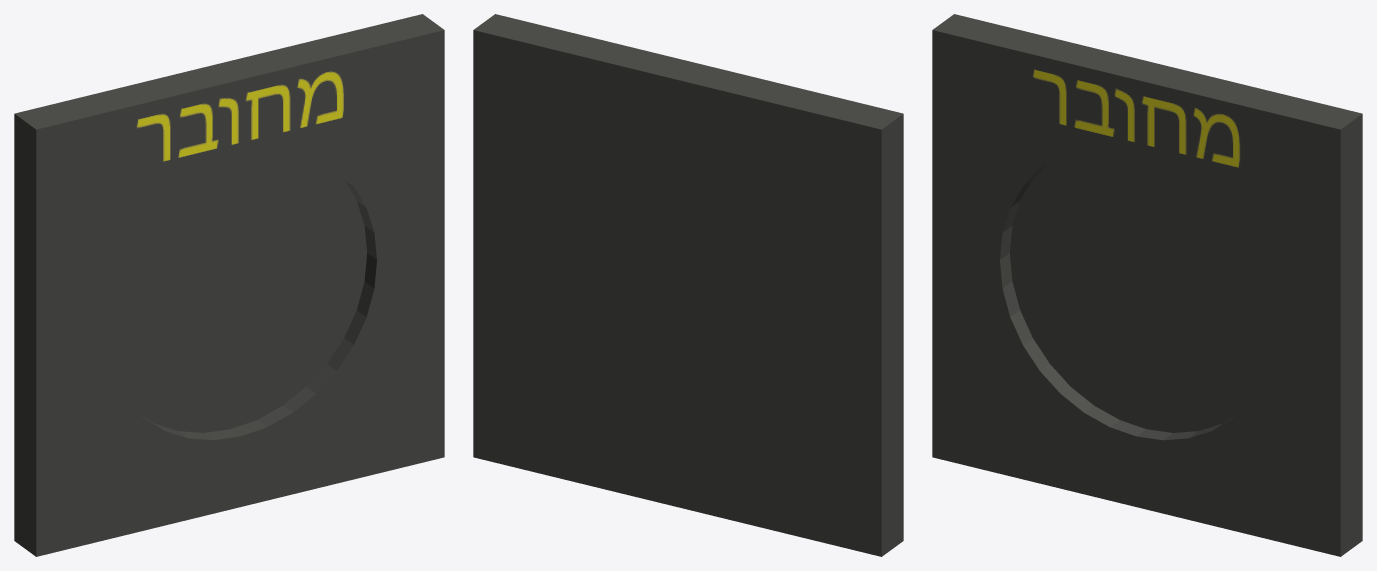
File: online.fbx
The picture shows the model from 3 angles, left to right: view 1: azimuth 30°, elevation 25°; view 2: azimuth 150°, elevation 25°; view 3: azimuth 330°, elevation 25°; orthographic projection.
Visible parts, largest first — view 1: Cube; view 2: Cube; view 3: Cube.
Boxes of the visible parts, bbox=[...] form: Cube: bbox=[14, 14, 444, 556]; Cube: bbox=[473, 14, 903, 556]; Cube: bbox=[932, 14, 1362, 556].
Bounding box in the file's own units: 299 × 299 × 27.78.
Materials: 1 (1 with a texture image).
